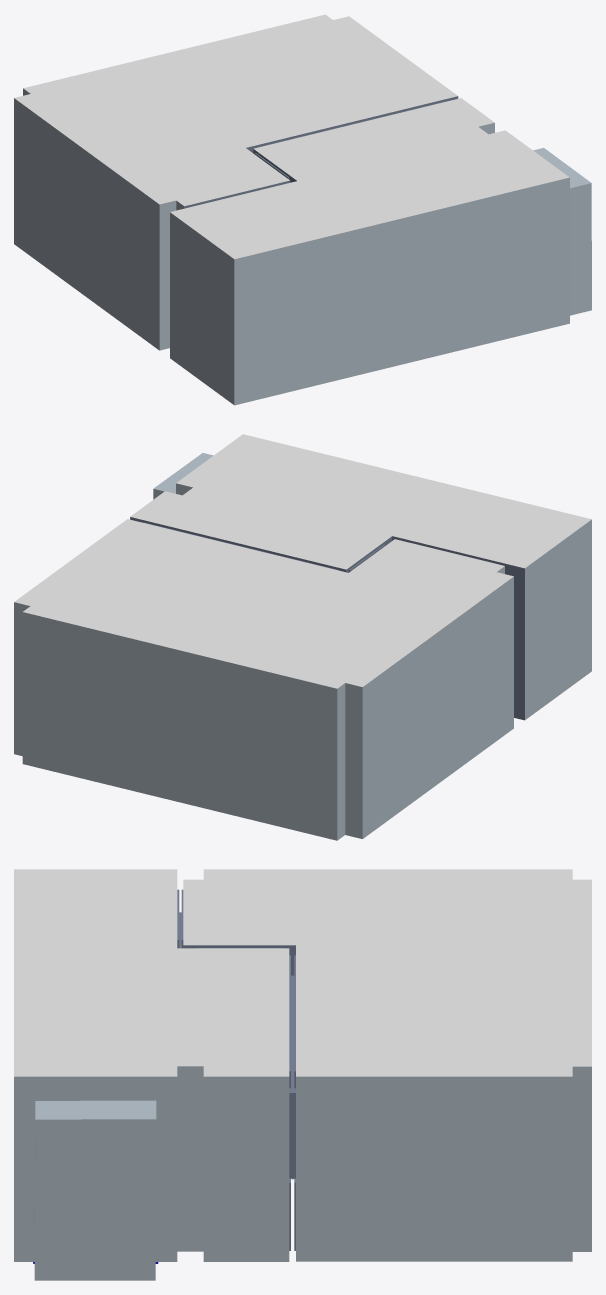
Rendered from Sala_Endo.fbx.
3 renders of one model, top to bottom at view 1: azimuth 30°, elevation 25°; view 2: azimuth 150°, elevation 25°; view 3: azimuth 270°, elevation 25°, orthographic. The views are drawn at different scales.
Parts seen in each view (by area): view 1: room; view 2: room; view 3: room.
Part boxes in pixels (x1=…): room: x1=14, y1=14, x2=591, y2=405; room: x1=14, y1=434, x2=591, y2=840; room: x1=14, y1=869, x2=591, y2=1280.
Bounding box in the file's own units: 655 × 250 × 707.
